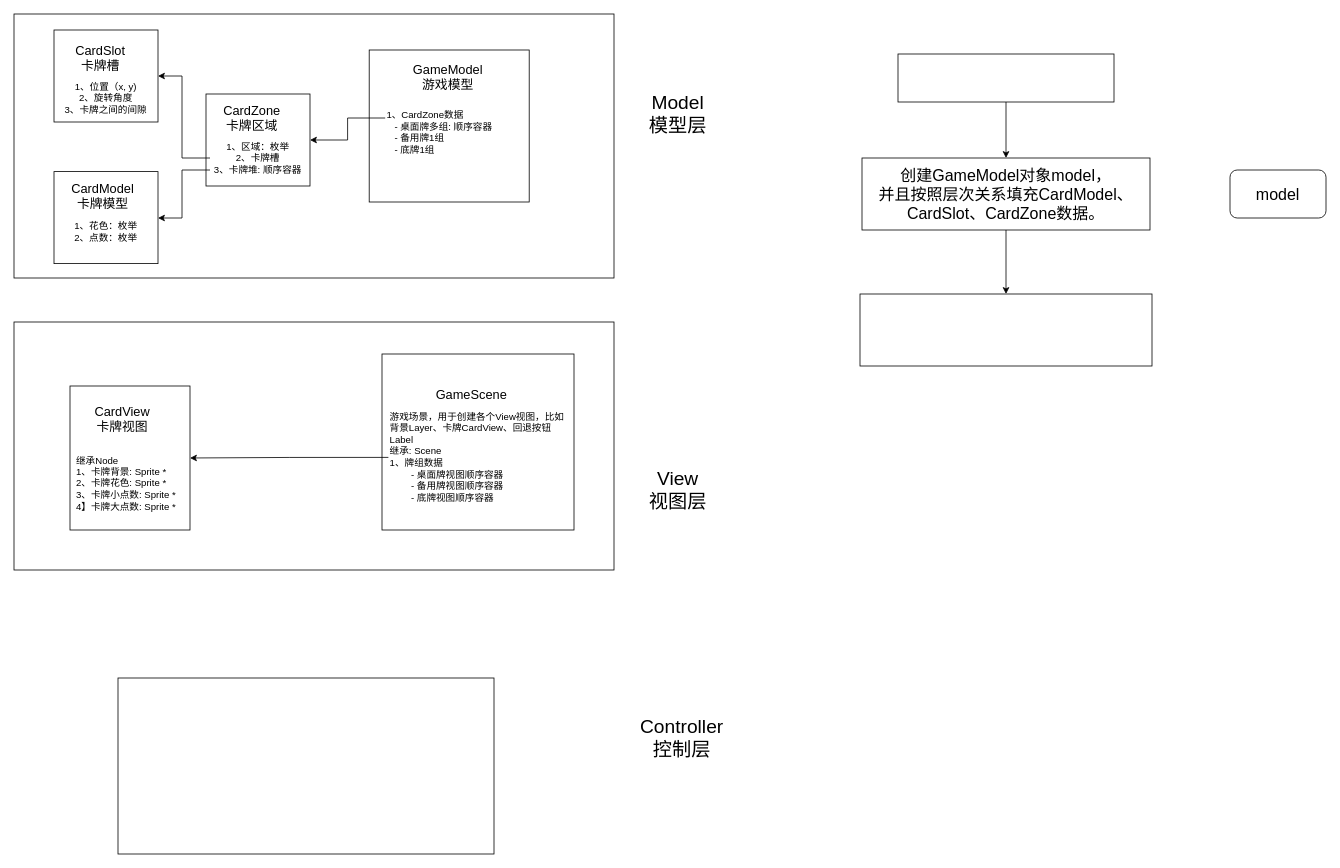
Some shapes in this 1340 by 868 pixel diagram are drawn without their labels. Here are the shapes that lost their labels. From the top down, the centre of each, then its label:
the point at 1005,77: GameScene init beigin
the point at 1005,329: 参考对象model，分析内容卡牌槽与卡牌模型，绘制CardView
